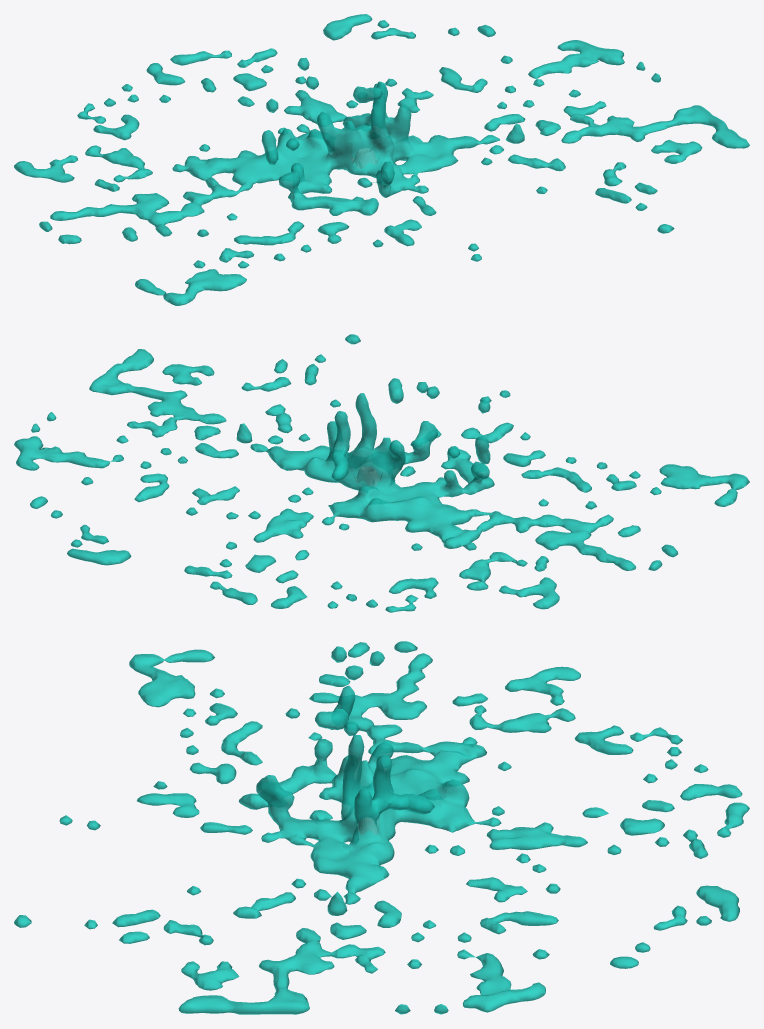
3 views of the same model, one above another, from view 1: azimuth 30°, elevation 25°; view 2: azimuth 150°, elevation 25°; view 3: azimuth 270°, elevation 25° (orthographic). The views are drawn at different scales.
Parts seen in each view (by area): view 1: Liquid_Domain; view 2: Liquid_Domain; view 3: Liquid_Domain.
Part boxes in pixels (<box>): Liquid_Domain: <box>14,14,749,305</box>; Liquid_Domain: <box>14,334,749,612</box>; Liquid_Domain: <box>14,641,749,1014</box>.
Size of the model in its own units: 12.43 by 2.34 by 10.54.
